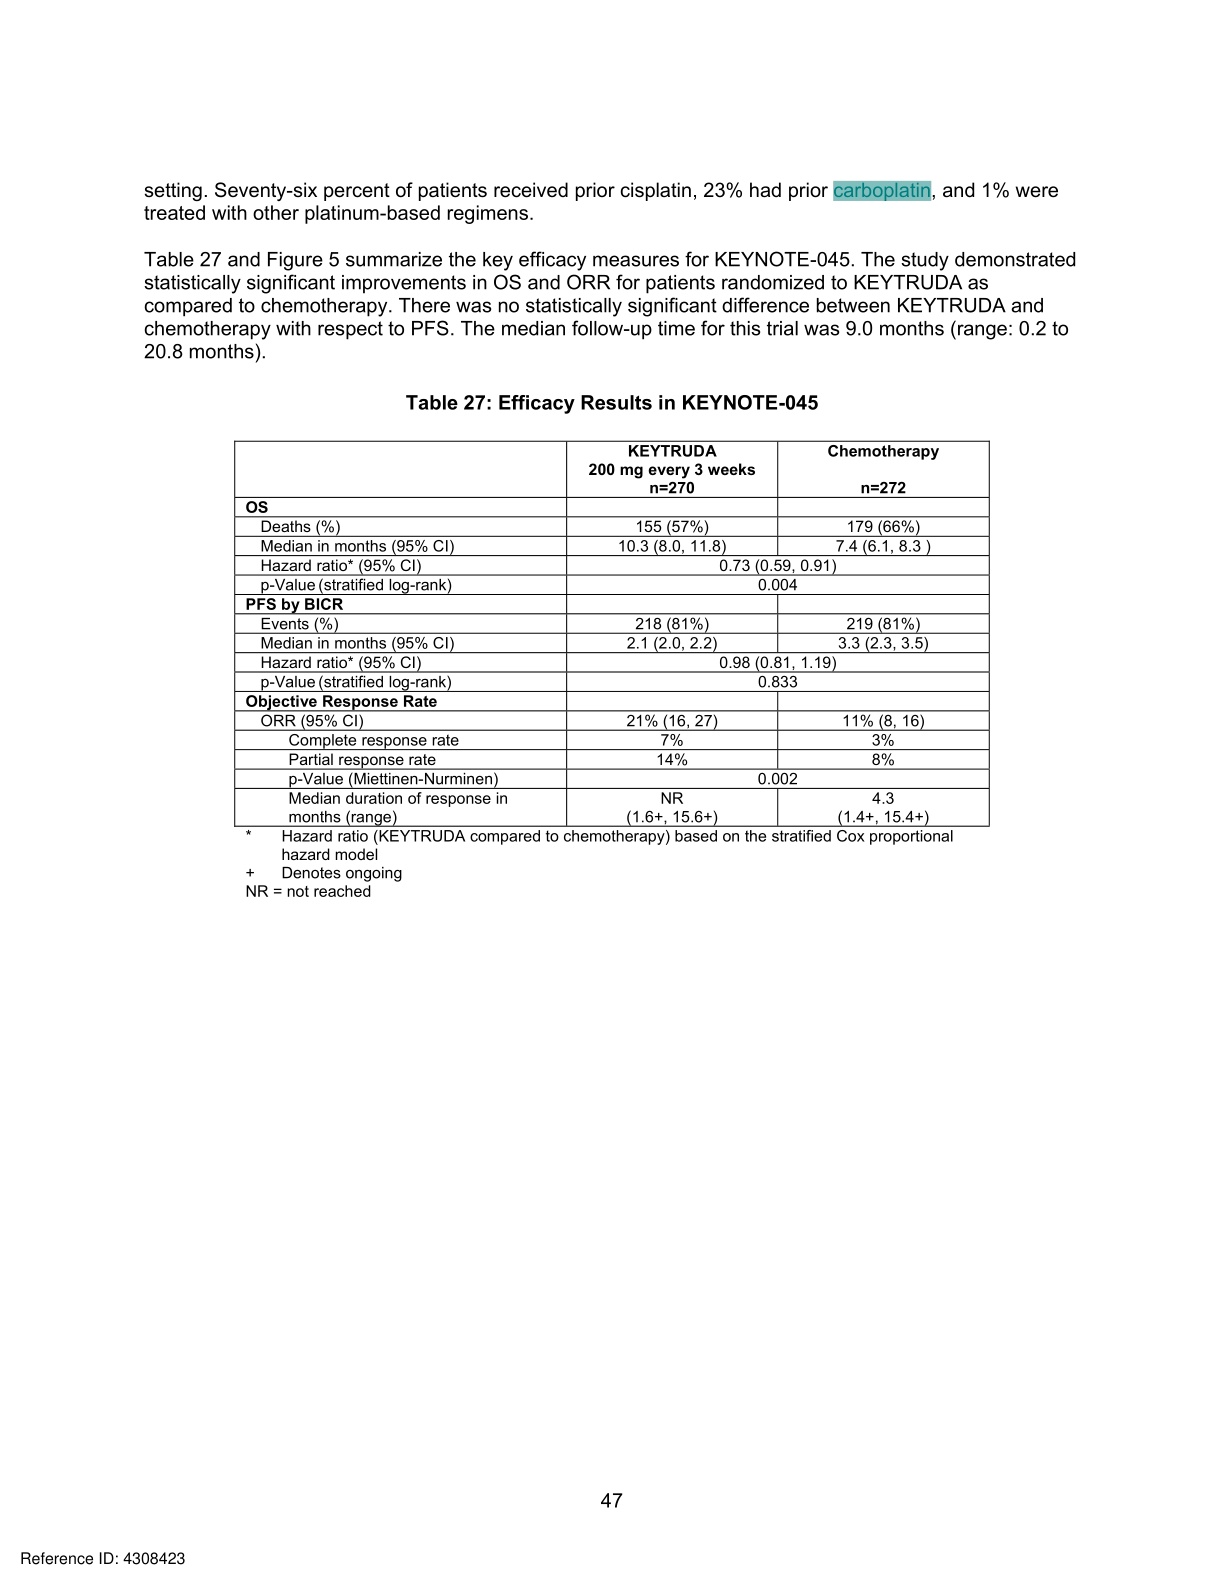merged_cells: (233, 438, 990, 827)
